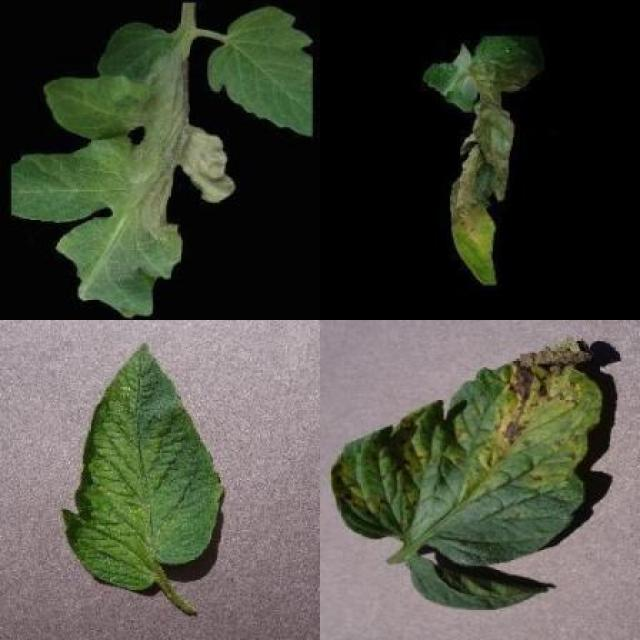Healthy: (205, 7, 312, 137)
Late Blight: (13, 23, 236, 320), (424, 34, 539, 286)
Septoria: (329, 336, 601, 566)
Spider Mites: (64, 344, 224, 590)
